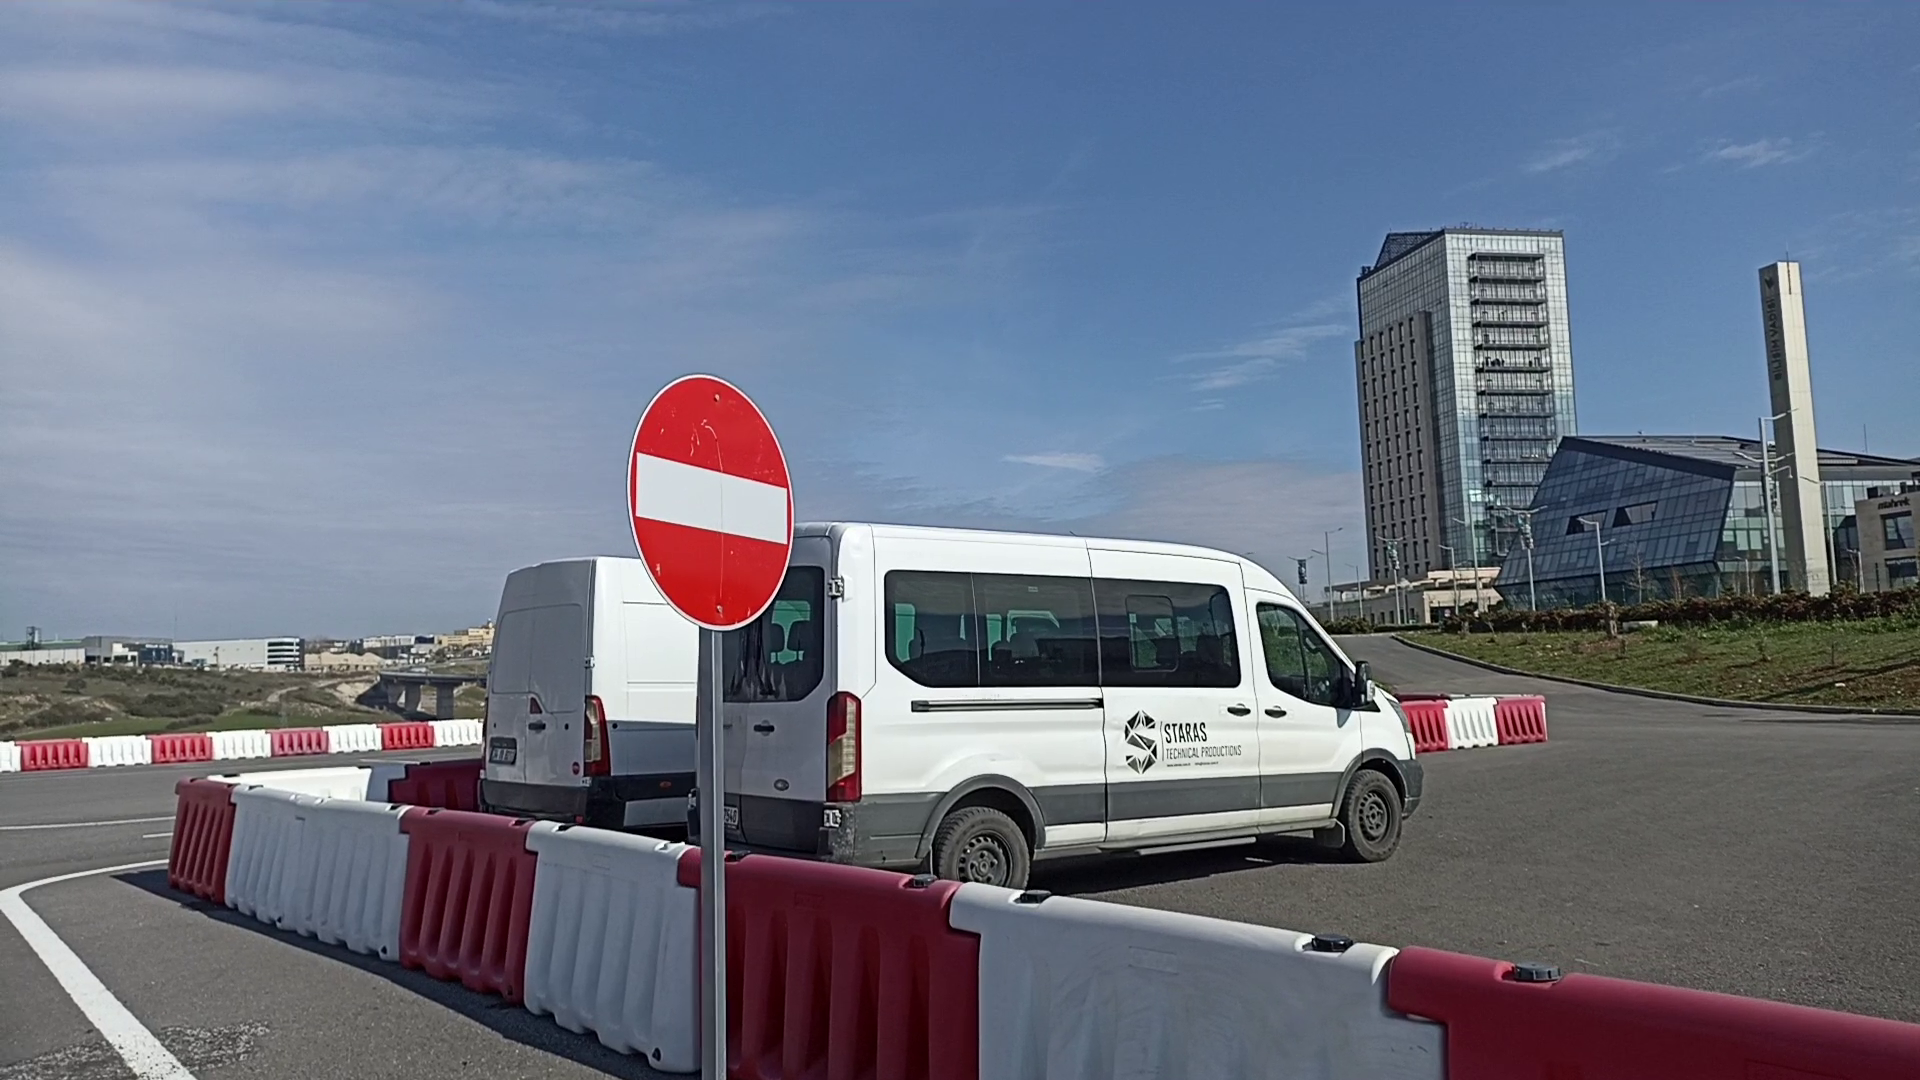noentryway: (618, 371, 803, 636)
